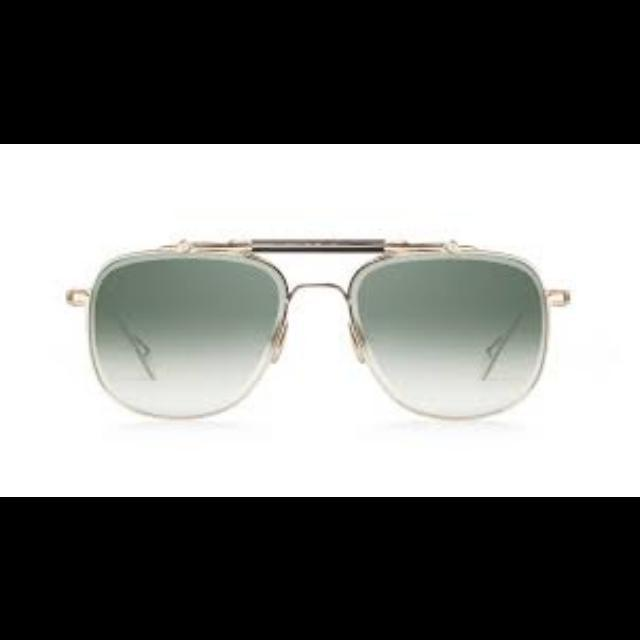glasses: (62, 231, 572, 425)
